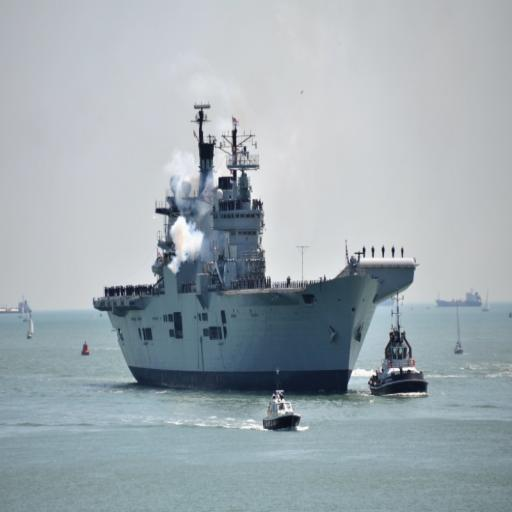Portanaves: (93, 98, 420, 400)
